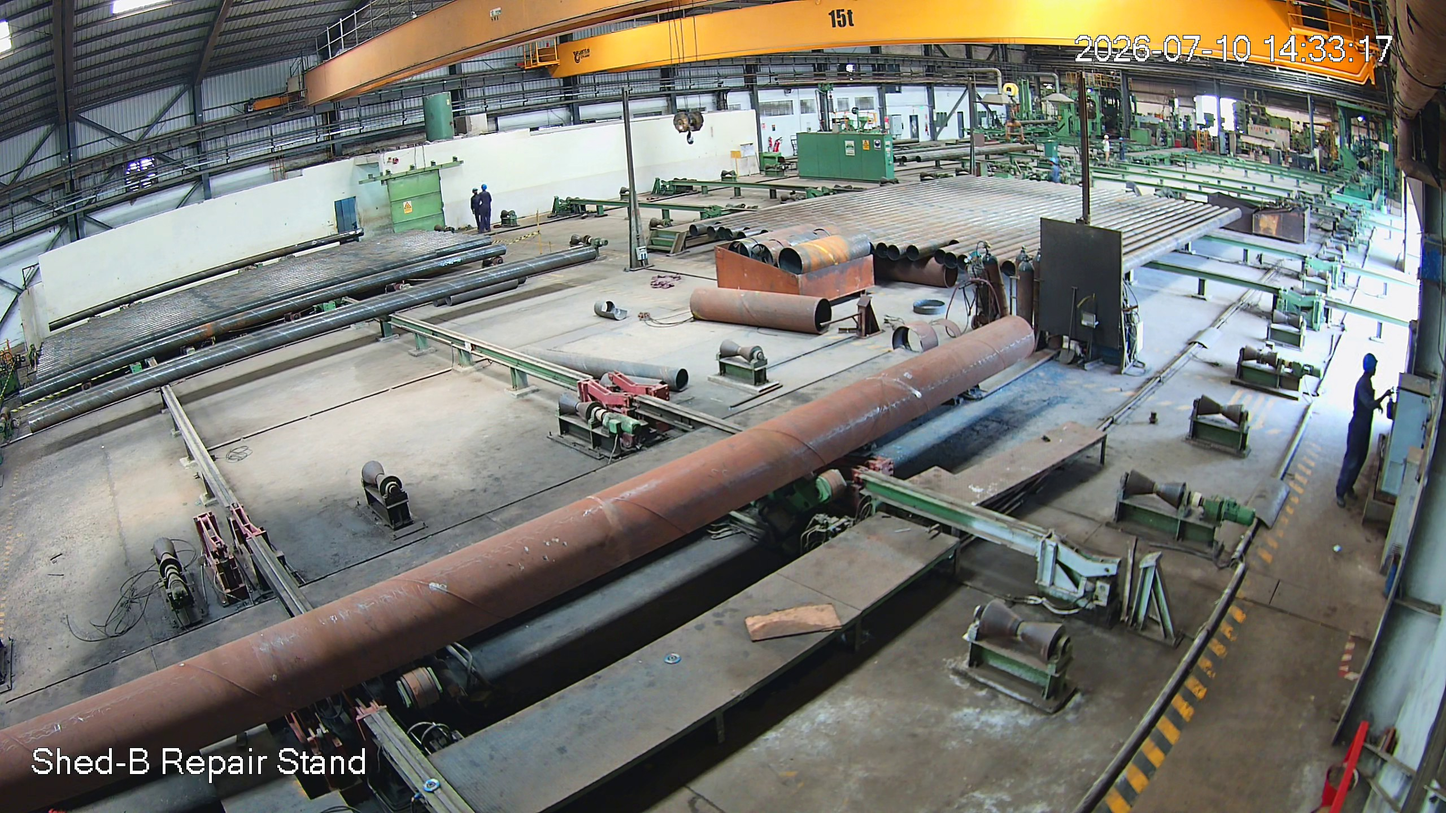Helmet: (1357, 349, 1385, 385), (479, 181, 490, 195)
Person: (1334, 353, 1390, 517), (477, 183, 491, 234)
